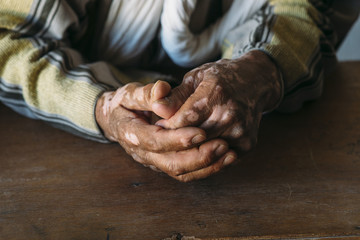vitiligo: (109, 75, 242, 156)
